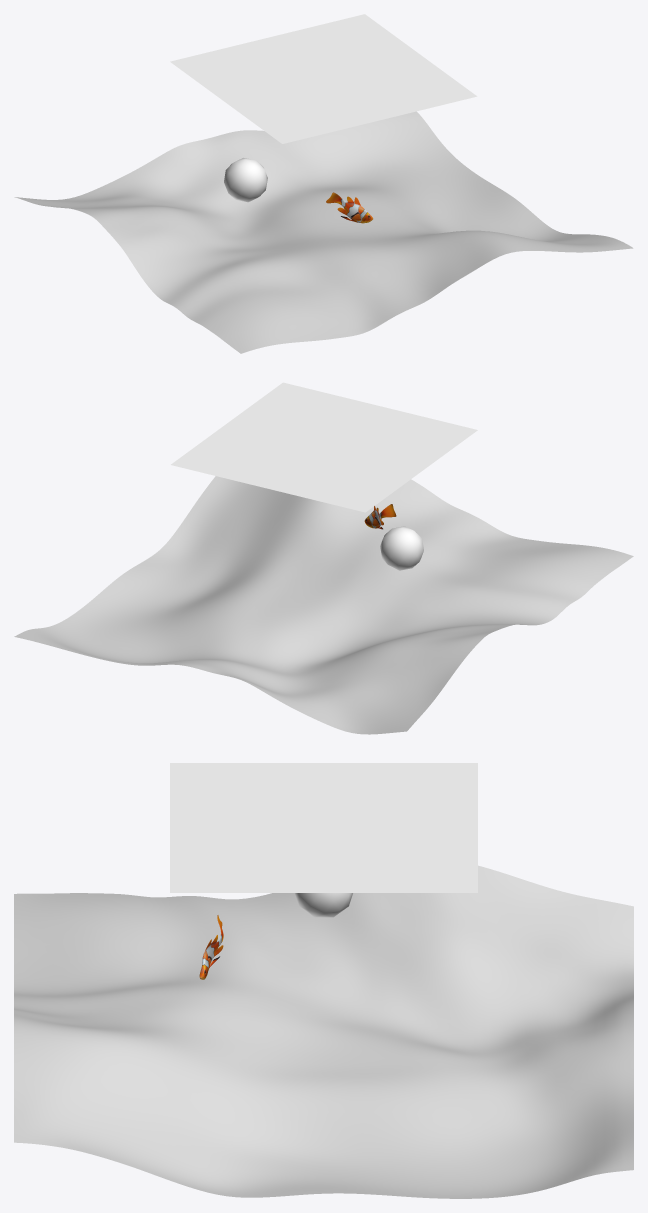
The model's file is water.glb.
3 renders of one model, top to bottom at view 1: azimuth 30°, elevation 25°; view 2: azimuth 150°, elevation 25°; view 3: azimuth 270°, elevation 25°, orthographic. The views are drawn at different scales.
Parts seen in each view (by area): view 1: Plane.Ground, Plane.Gobo, IcoDotParicleRef, Underwater; view 2: Plane.Ground, Plane.Gobo, IcoDotParicleRef; view 3: Plane.Ground, Plane.Gobo, IcoDotParicleRef.
Part boxes in pixels (x1,y1,x2,y2): Plane.Ground: [14, 111, 633, 353]; Plane.Gobo: [170, 14, 477, 143]; IcoDotParicleRef: [224, 158, 267, 202]; Underwater: [326, 192, 373, 223]; Plane.Ground: [14, 476, 633, 734]; Plane.Gobo: [171, 382, 477, 512]; IcoDotParicleRef: [380, 526, 423, 570]; Plane.Ground: [14, 865, 633, 1198]; Plane.Gobo: [170, 763, 477, 892]; IcoDotParicleRef: [295, 893, 352, 917].
Size of the model in its own units: 20.14 by 8.83 by 20.14.
4 materials, 1 textured.
